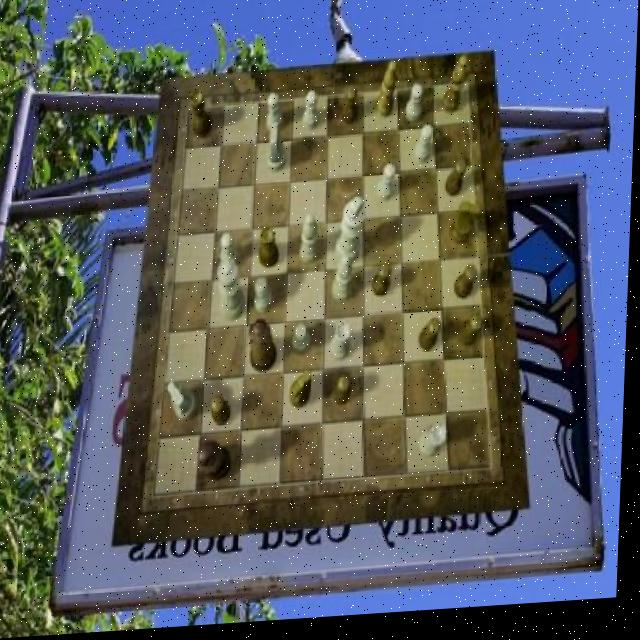bishop: (441, 62, 467, 120), (376, 67, 399, 124)
black-bishop: (200, 442, 234, 486)
black-king: (451, 208, 482, 252), (291, 374, 315, 413)
black-knight: (455, 271, 479, 307), (446, 164, 468, 203), (460, 320, 485, 354), (420, 324, 444, 359), (373, 268, 393, 303), (341, 90, 358, 130), (213, 398, 234, 428), (336, 379, 355, 411)
black-pawn: (249, 322, 279, 378)
black-queen: (188, 93, 212, 142), (261, 230, 282, 273)
black-rook: (301, 216, 322, 268), (334, 259, 356, 306)
white-bishop: (336, 202, 368, 271)
white-king: (170, 383, 201, 424), (267, 126, 288, 176)
white-knight: (377, 168, 397, 207), (414, 131, 434, 169), (304, 95, 321, 136), (267, 97, 284, 138), (405, 90, 423, 128), (258, 280, 276, 316), (222, 236, 240, 272), (294, 328, 313, 358)
white-pawn: (217, 260, 248, 324)
white-queen: (420, 430, 450, 465), (332, 327, 354, 367)
